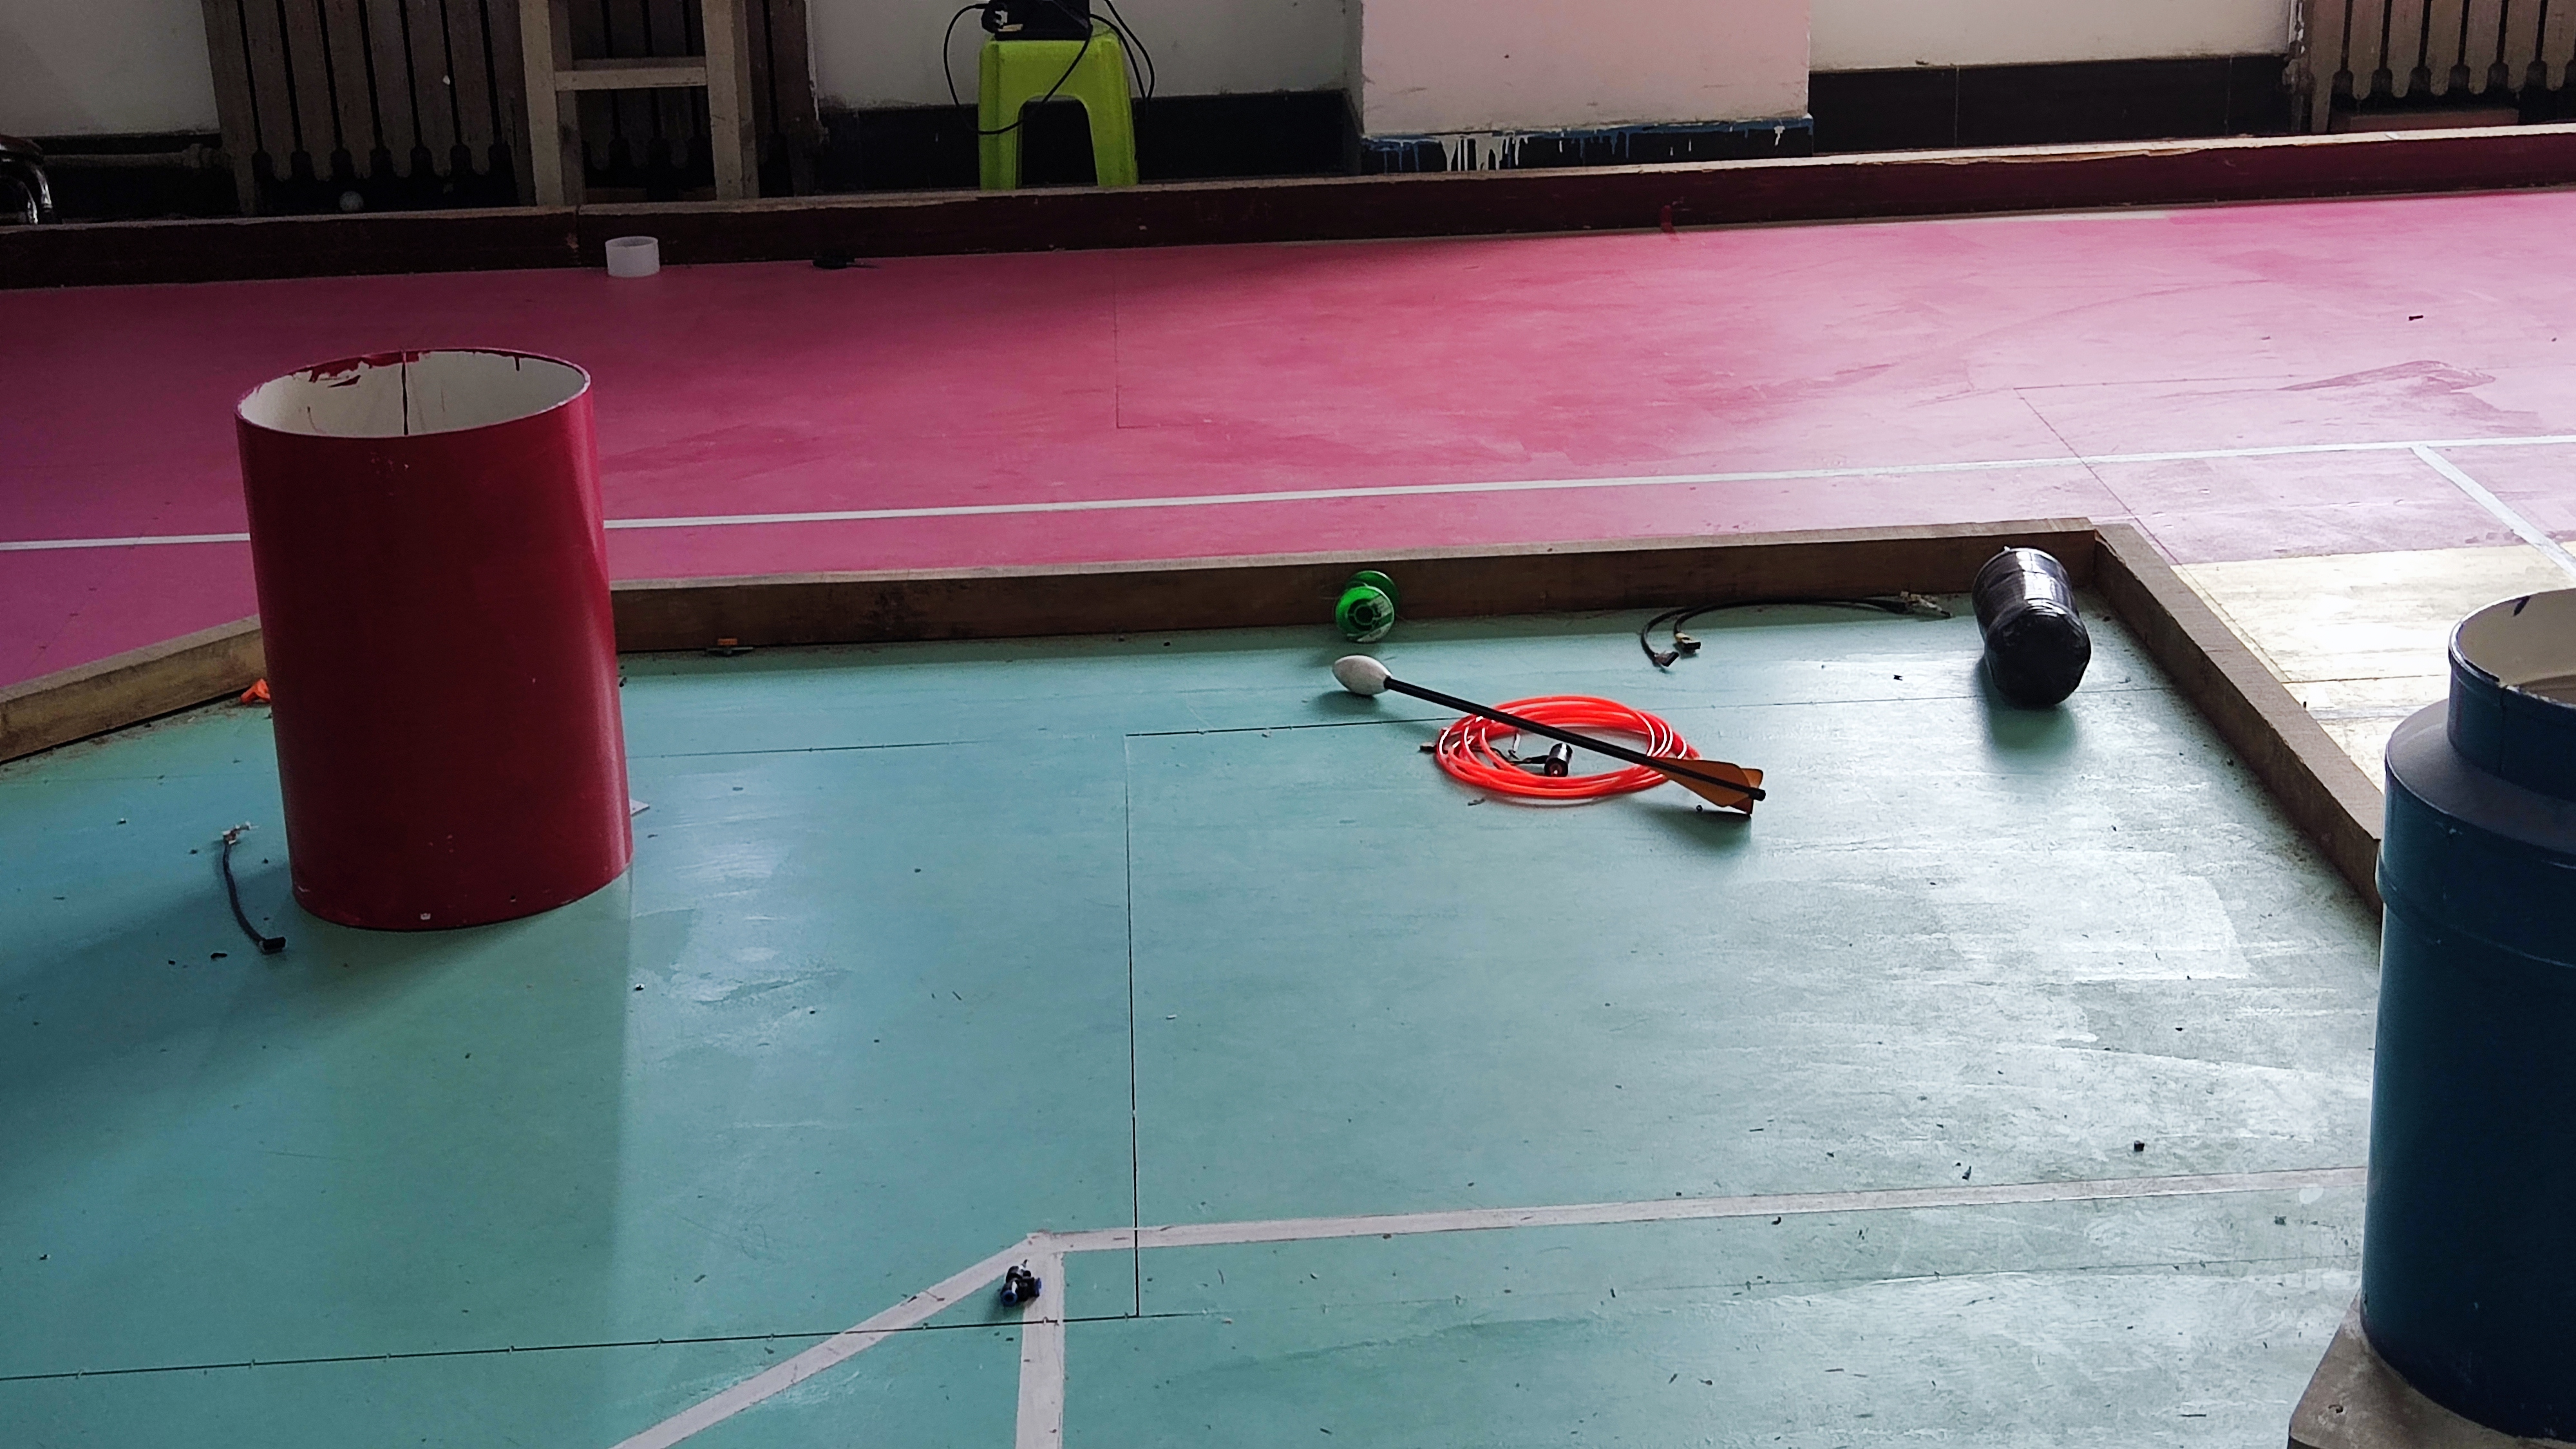arrow: (1329, 653, 1769, 821)
arrowFront: (1330, 653, 1391, 695)
redBucket: (225, 345, 642, 924)
